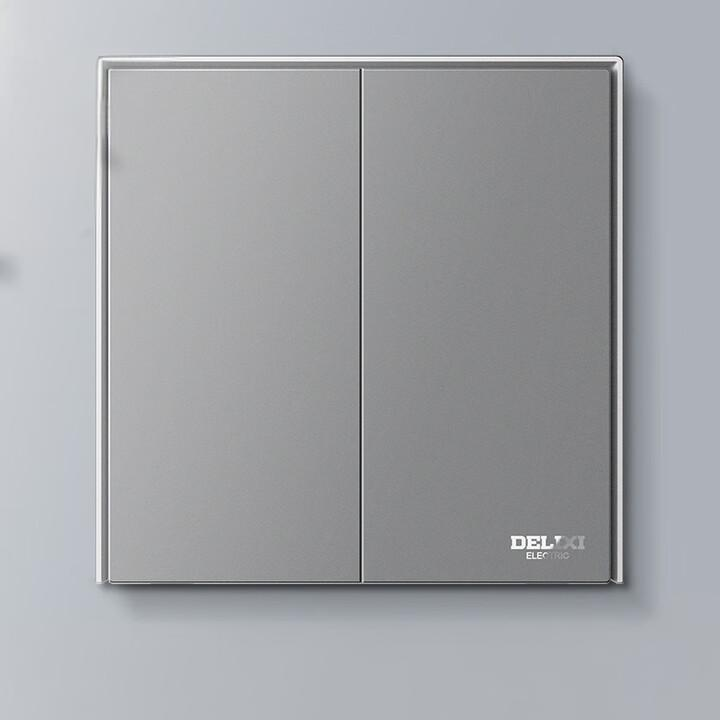button: (94, 55, 626, 591)
